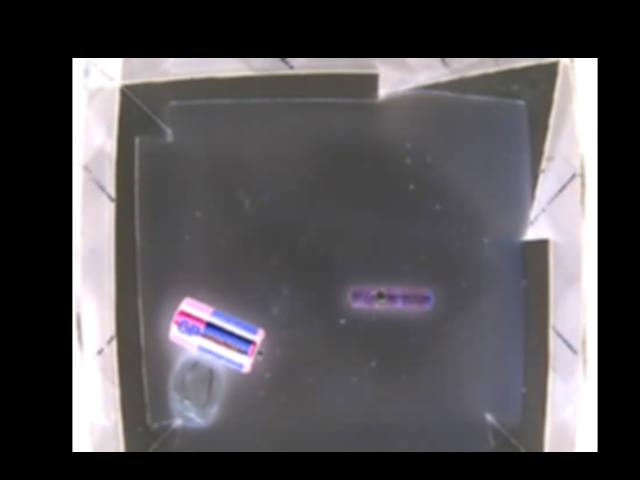Battery: (170, 298, 267, 370), (346, 287, 432, 309)
Pebble: (167, 353, 224, 426)
